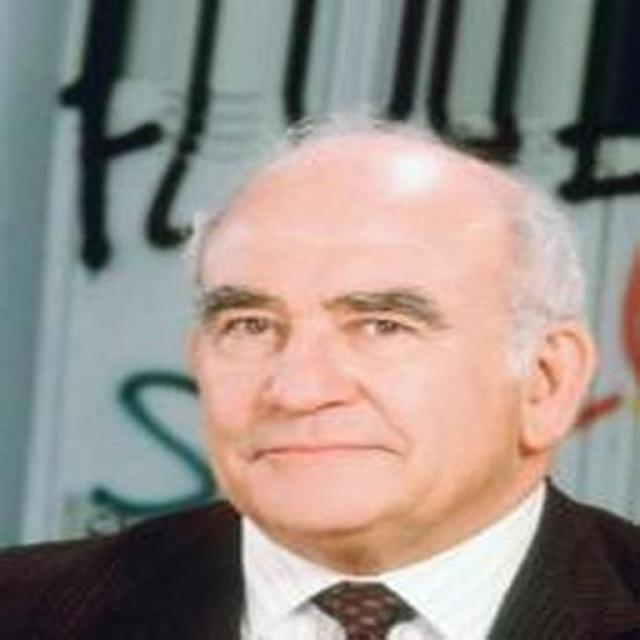bareface: (186, 179, 520, 517)
